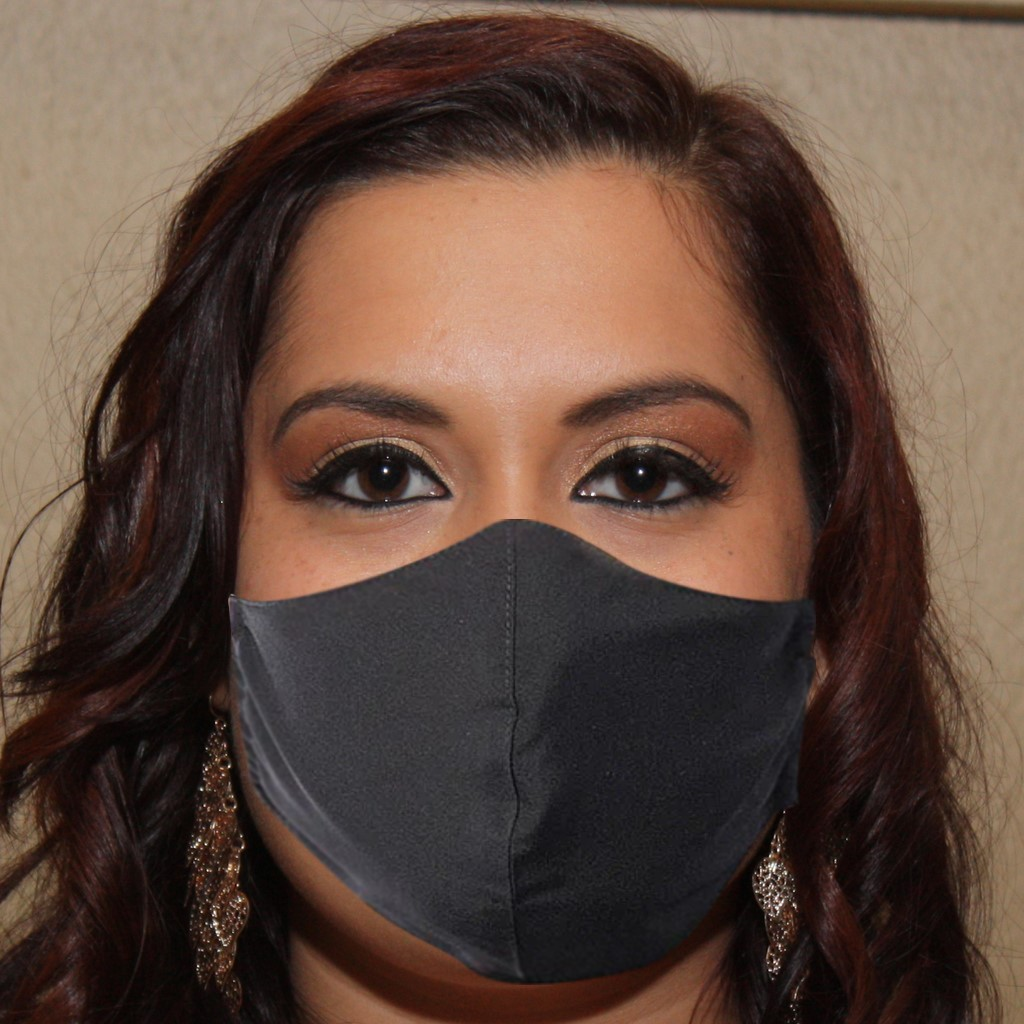con_mascara: (207, 127, 847, 998)
